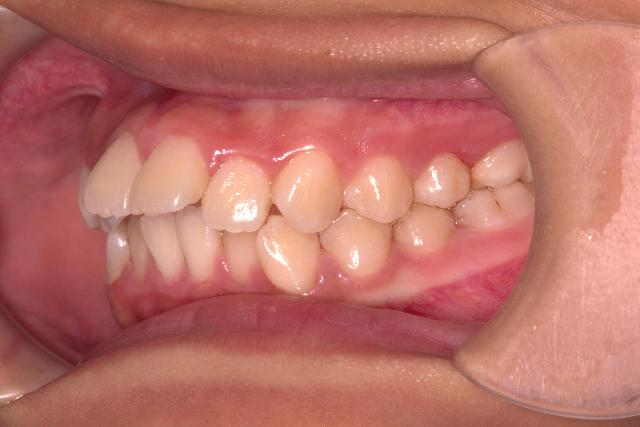canine class II 1/4: (259, 138, 393, 300)
molar class III 1/4: (453, 138, 535, 237)
